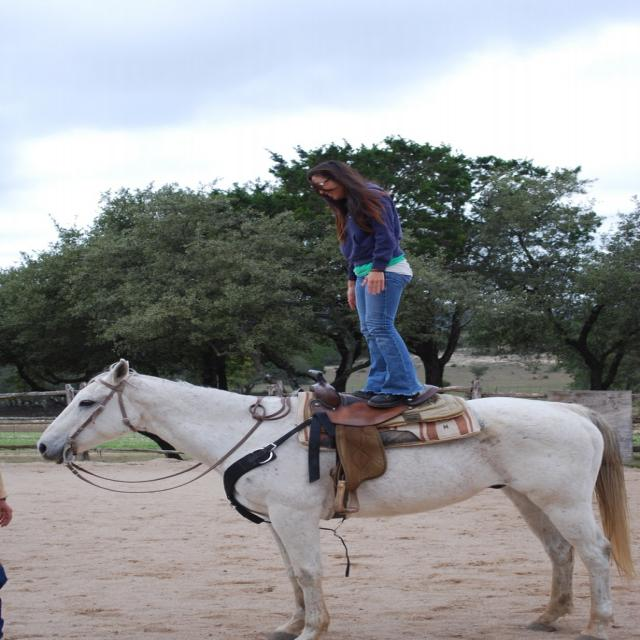Horse: (35, 358, 636, 640)
